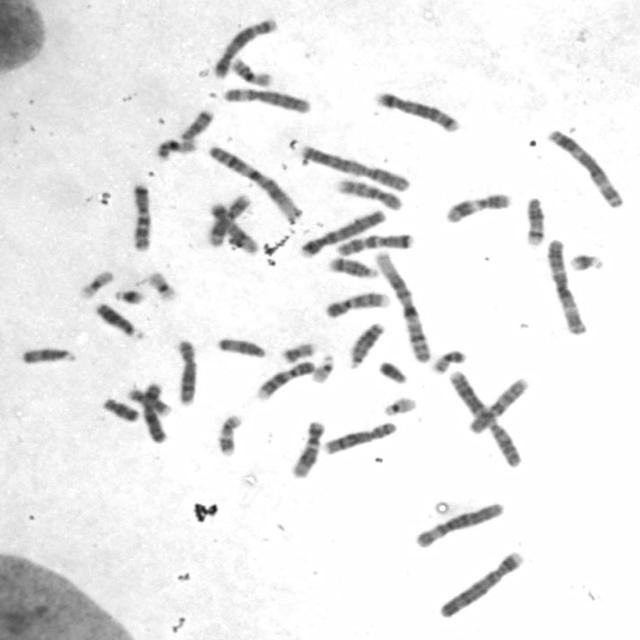A1: (204, 141, 304, 223), (373, 247, 433, 364)
A2: (445, 368, 524, 468), (296, 142, 412, 192)
A3: (544, 124, 626, 210), (542, 235, 588, 336)
B4: (435, 546, 527, 620), (295, 206, 387, 259)
B5: (209, 15, 279, 80), (371, 88, 461, 134)
C10: (464, 374, 530, 436), (333, 176, 404, 212)
C11: (205, 192, 253, 248), (442, 190, 514, 225)
C12: (205, 198, 258, 255), (288, 417, 326, 479)
C6: (411, 497, 507, 551), (220, 84, 312, 115)
C7: (332, 230, 415, 257), (128, 179, 156, 253)
C8: (321, 418, 398, 456), (172, 335, 200, 407)
C9: (254, 357, 316, 402), (321, 289, 391, 320)
D13: (92, 300, 145, 341), (345, 318, 385, 369)
D14: (326, 253, 379, 280), (521, 193, 547, 247)
D15: (18, 344, 79, 367), (214, 334, 267, 359)
E16: (228, 54, 276, 88), (153, 135, 200, 162)
E17: (124, 384, 172, 418), (214, 410, 244, 458)
E18: (178, 107, 215, 141), (99, 394, 140, 424)
F19: (76, 266, 115, 300), (145, 268, 179, 303)
F20: (428, 346, 467, 375), (278, 340, 318, 364)
G21: (566, 250, 606, 274), (111, 286, 146, 306)
G22: (308, 350, 337, 384), (380, 394, 418, 417)
X: (139, 379, 169, 444)
Y: (375, 358, 409, 385)
